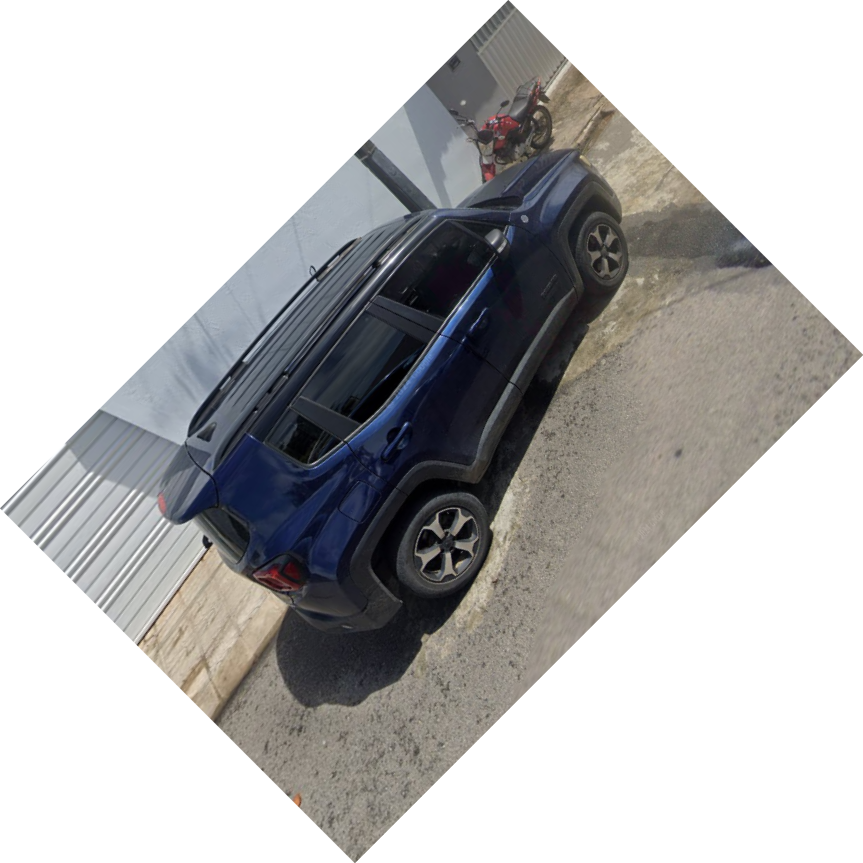car: (157, 145, 634, 637)
